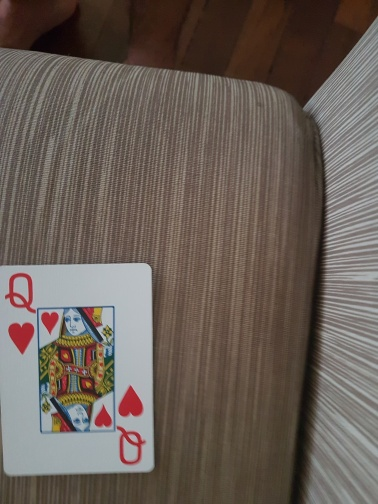queen: (4, 262, 155, 476)
